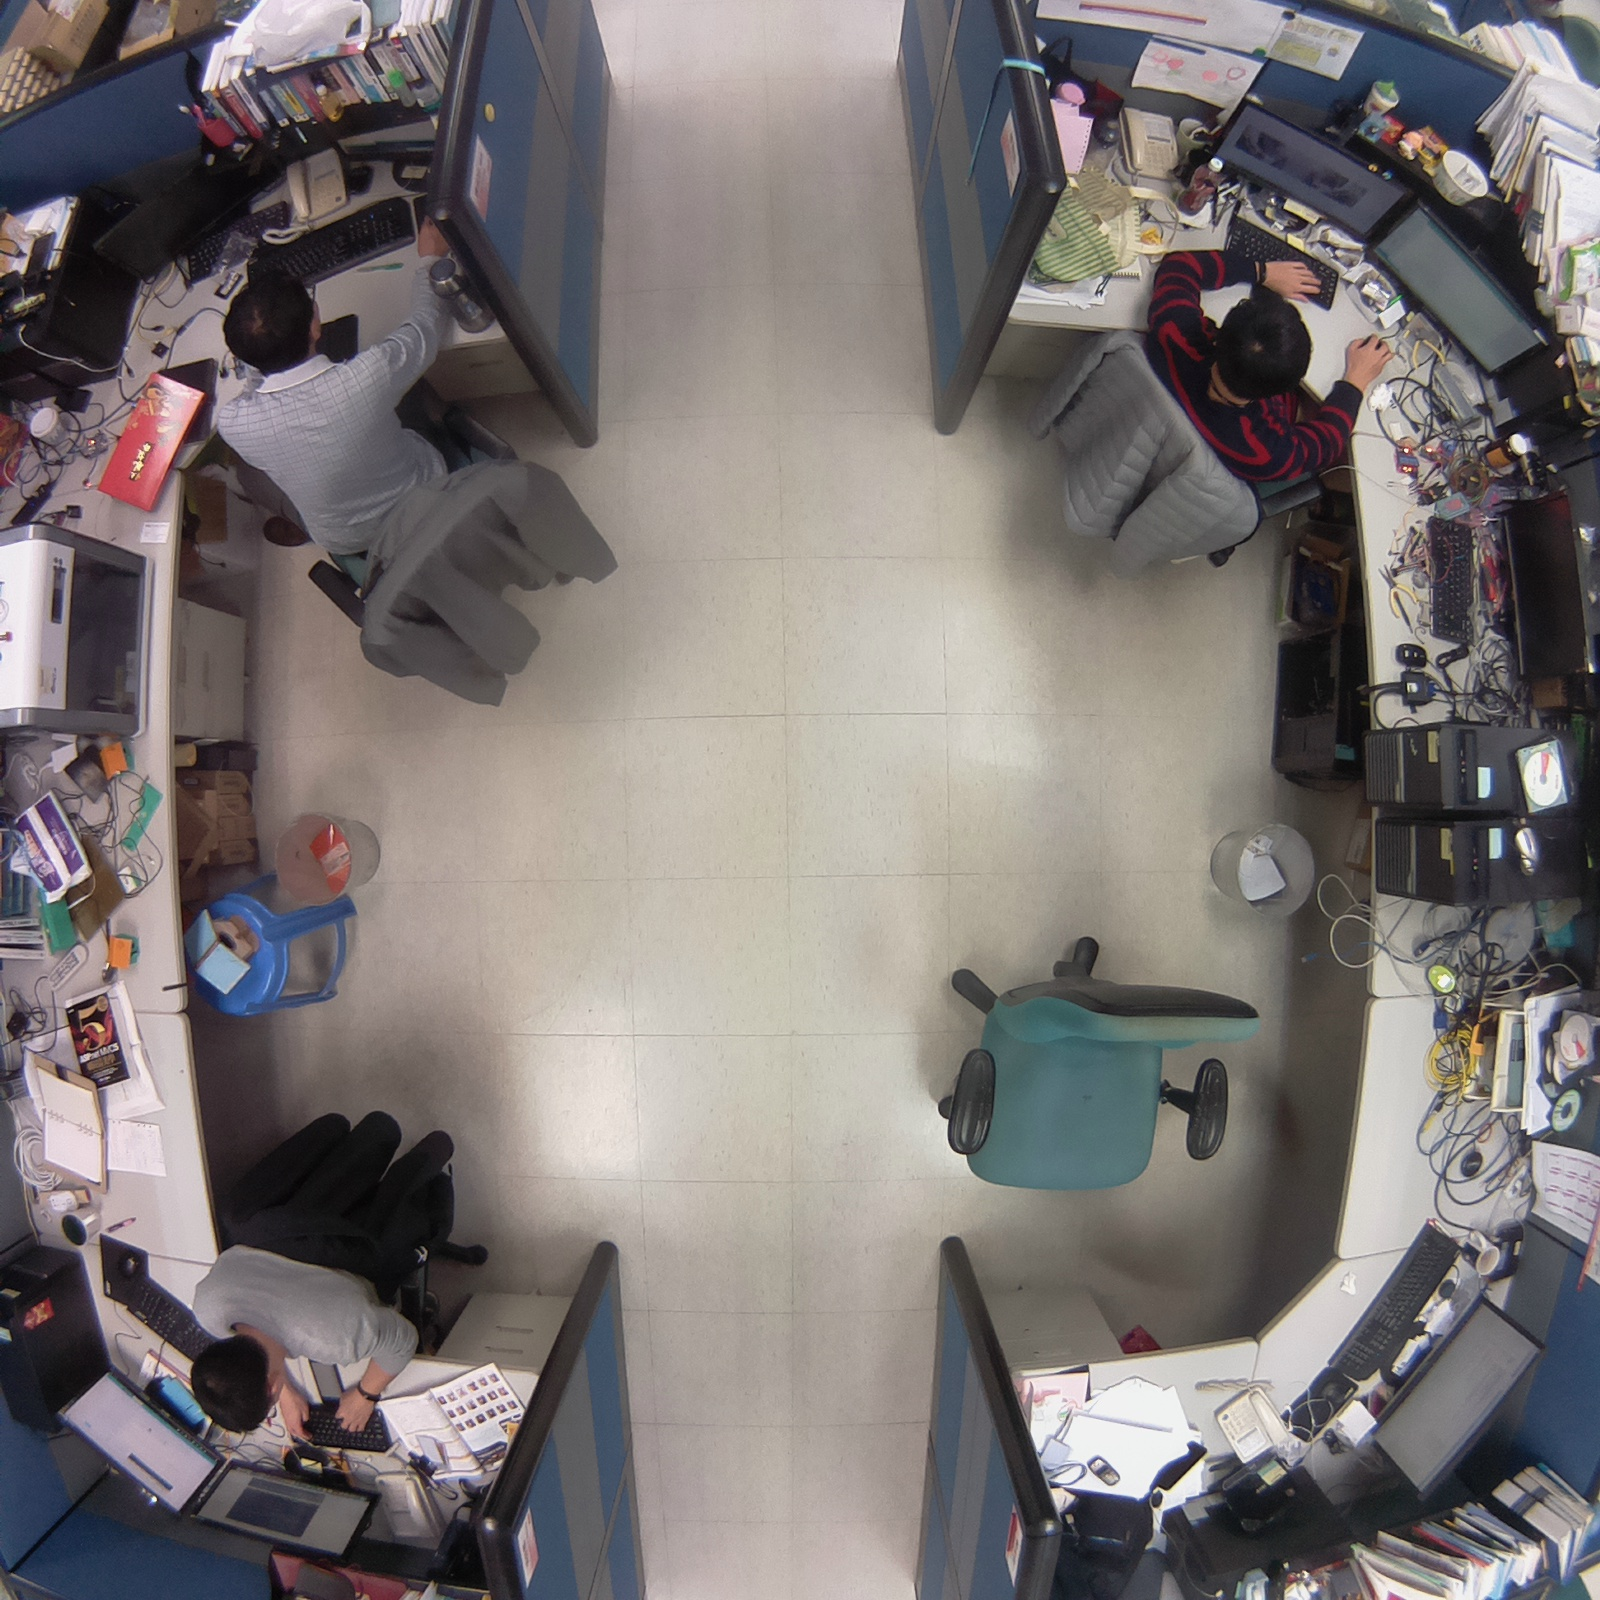chair: (903, 913, 1279, 1209)
sitting: (174, 198, 630, 730), (1018, 232, 1404, 604), (171, 1092, 489, 1467)
